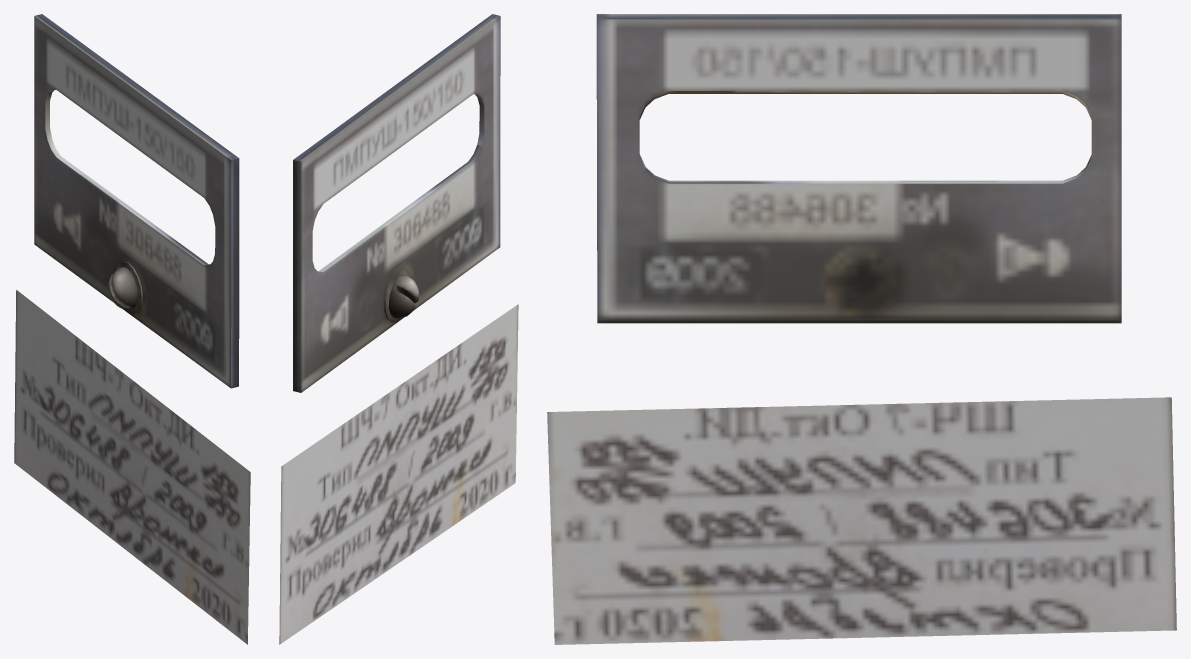
The model's file is pumpsh_shilda_nakleyka.fbx.
3 views of the same model, side by side, from view 1: azimuth 30°, elevation 25°; view 2: azimuth 150°, elevation 25°; view 3: azimuth 270°, elevation 25° (orthographic). The views are drawn at different scales.
Visible parts, largest first — view 1: pumpsh_shilda_nakleyka; view 2: pumpsh_shilda_nakleyka; view 3: pumpsh_shilda_nakleyka.
Boxes of the visible parts, bbox=[...] form: pumpsh_shilda_nakleyka: bbox=[14, 14, 250, 644]; pumpsh_shilda_nakleyka: bbox=[279, 14, 518, 644]; pumpsh_shilda_nakleyka: bbox=[547, 14, 1176, 644].
Size of the model in its own units: 0.00245 by 0.0436 by 0.0395.
